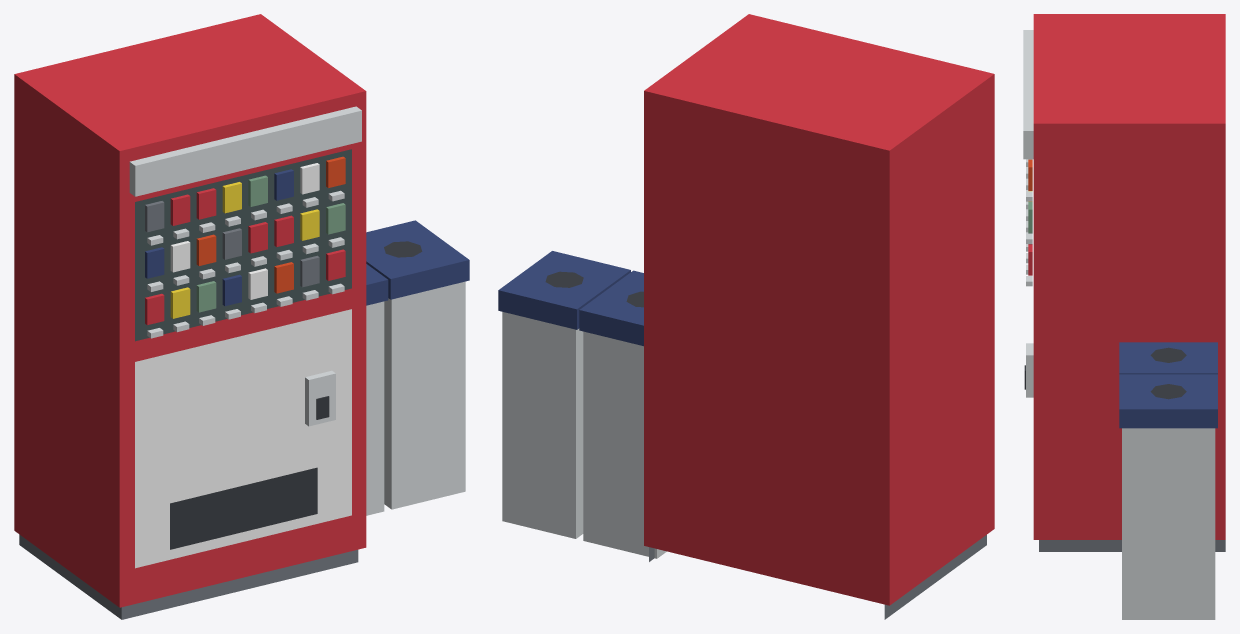
File: entrance_close.fbx
3 renders of one model, left to right at view 1: azimuth 30°, elevation 25°; view 2: azimuth 150°, elevation 25°; view 3: azimuth 270°, elevation 25°, orthographic. The views are drawn at different scales.
Visible parts, largest first — view 1: a2003/0/entrance_close; view 2: a2003/0/entrance_close; view 3: a2003/0/entrance_close.
Boxes of the visible parts, x1,y1,x2,y2 form: a2003/0/entrance_close: [14, 14, 469, 619]; a2003/0/entrance_close: [498, 14, 994, 619]; a2003/0/entrance_close: [1023, 14, 1225, 619].
Bounding box in the file's own units: 1.61 × 1.83 × 0.78.
